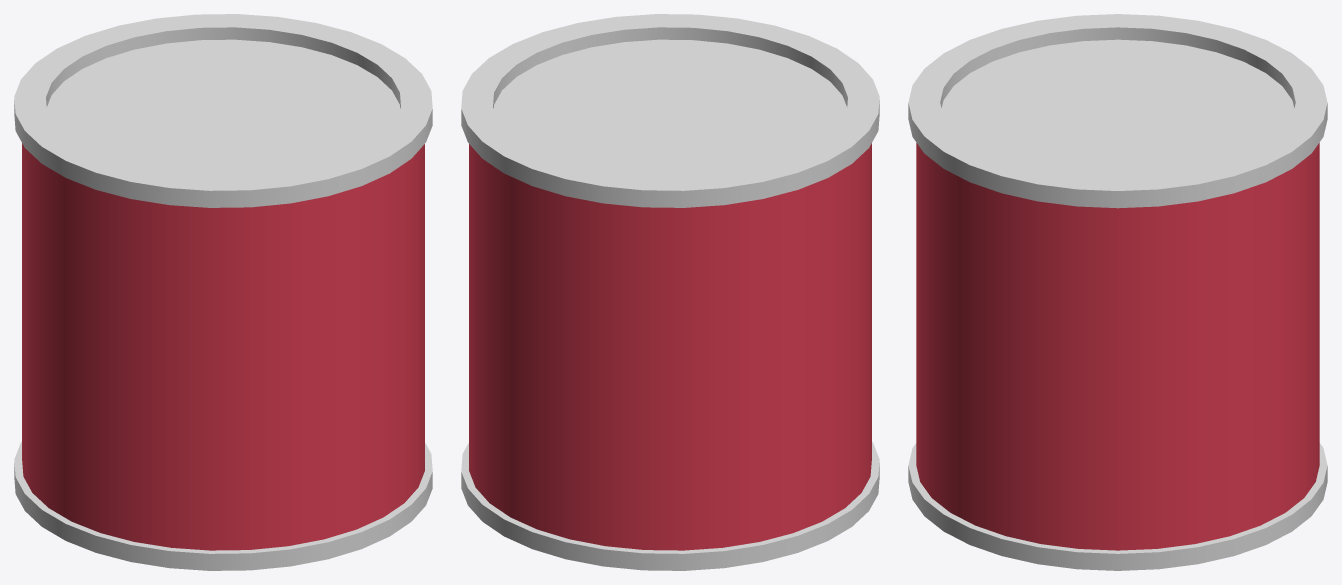
File: SM_Bucket.fbx
The picture shows the model from 3 angles, left to right: view 1: azimuth 30°, elevation 25°; view 2: azimuth 150°, elevation 25°; view 3: azimuth 270°, elevation 25°; orthographic projection.
Parts seen in each view (by area): view 1: SM_Bucket; view 2: SM_Bucket; view 3: SM_Bucket.
Boxes of the visible parts, bbox=[...] form: SM_Bucket: bbox=[14, 14, 432, 570]; SM_Bucket: bbox=[461, 14, 879, 570]; SM_Bucket: bbox=[908, 14, 1327, 570].
Size of the model in its own units: 30 by 30 by 30.
